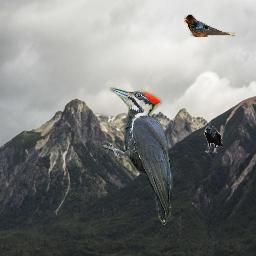Crow: (204, 126, 223, 153)
Swallow: (184, 14, 236, 37)
Woodpecker: (102, 87, 177, 225)
